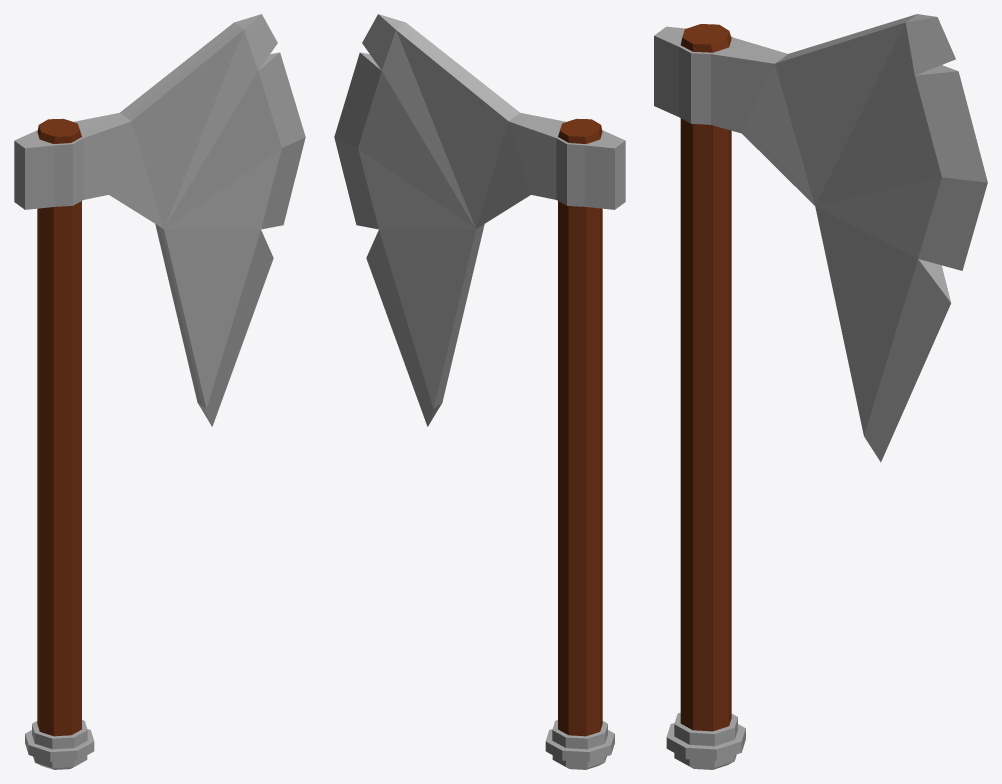
Rendered from axe_1.fbx.
The picture shows the model from 3 angles, left to right: view 1: azimuth 30°, elevation 25°; view 2: azimuth 150°, elevation 25°; view 3: azimuth 330°, elevation 25°; orthographic projection. The views are drawn at different scales.
Parts seen in each view (by area): view 1: Cylinder; view 2: Cylinder; view 3: Cylinder.
Boxes of the visible parts, bbox=[...] form: Cylinder: bbox=[14, 14, 305, 769]; Cylinder: bbox=[334, 14, 625, 769]; Cylinder: bbox=[654, 14, 987, 769].
Bounding box in the file's own units: 2.08 × 4.85 × 0.4515.
